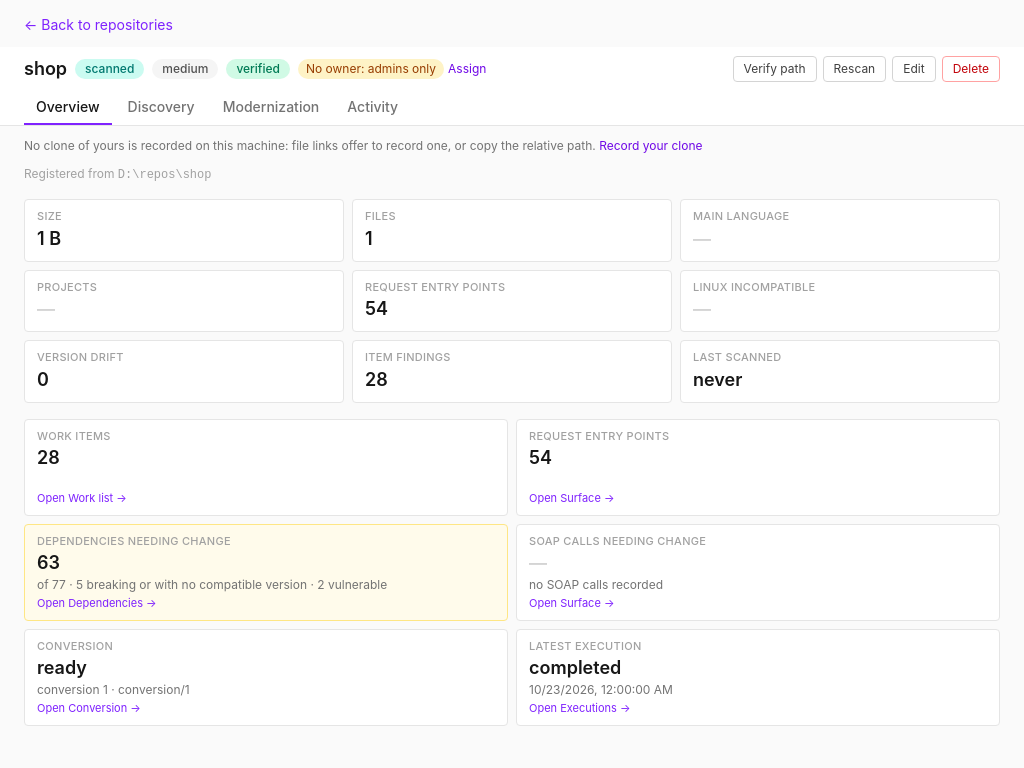
Test: RepositoryDetailPage tabs › a group shows its tabs and opens its first; only the selected tab is shown
Check: the heading "shop" is shown, box [24,55,67,83]
Click the tab "Discovery": point(161, 108) [116,91,207,125]
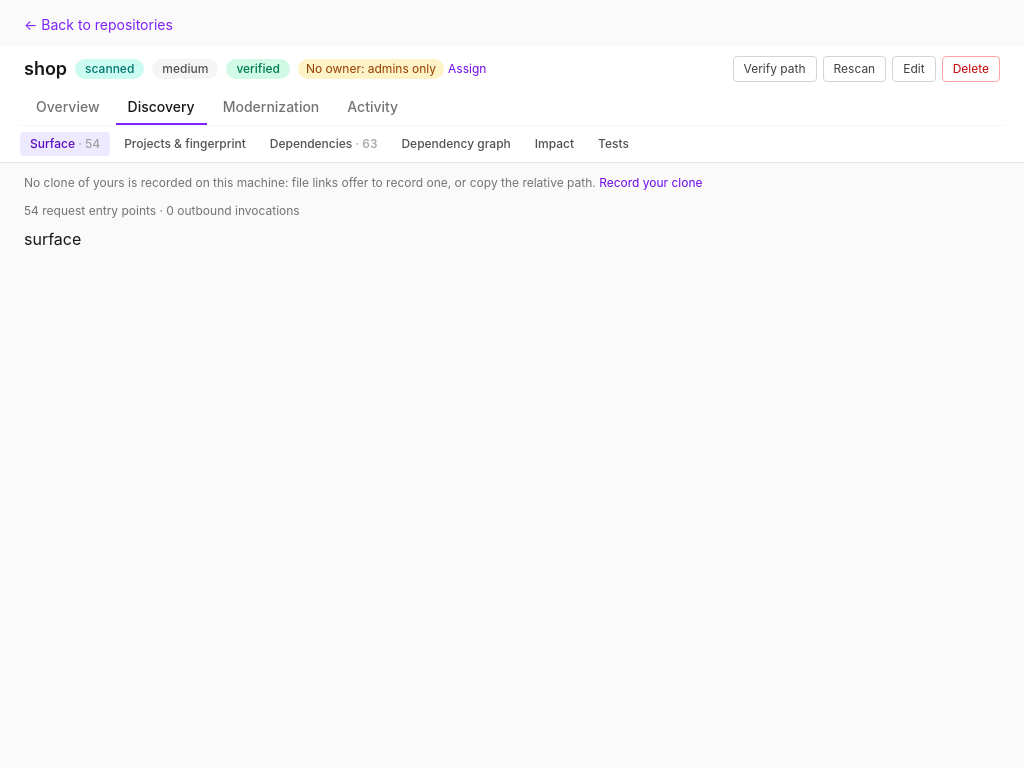
Check: the tabs read "Surface · 54", "Projects & fingerprint", "Dependencies · 63", "Dependency graph", "Impact", "Tests", in this order, box [20,132,110,156]; [114,132,256,156]; [260,132,388,156]; [391,132,521,156]; [525,132,584,156]; [588,132,639,156]
Click the tab "Modernization": point(271, 108) [211,91,331,125]
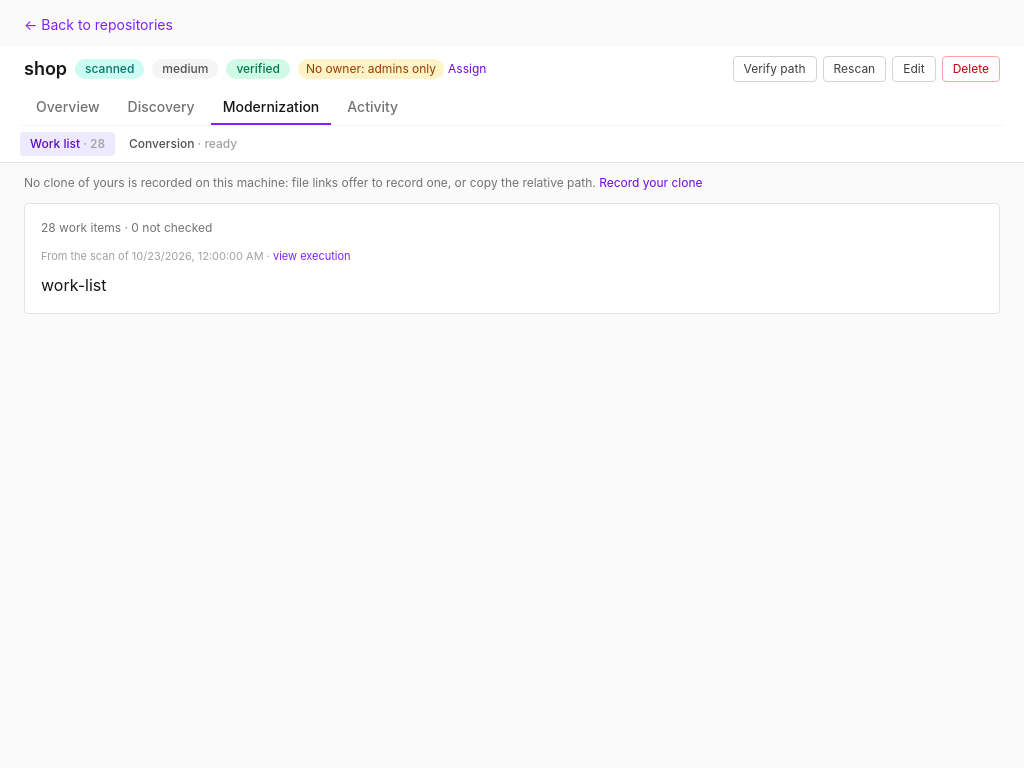
Check: the tabs read "Work list · 28", "Conversion · ready", in this order, box [20,132,115,156]; [119,132,247,156]
Click the tab "Activity": point(373, 108) [335,91,410,125]
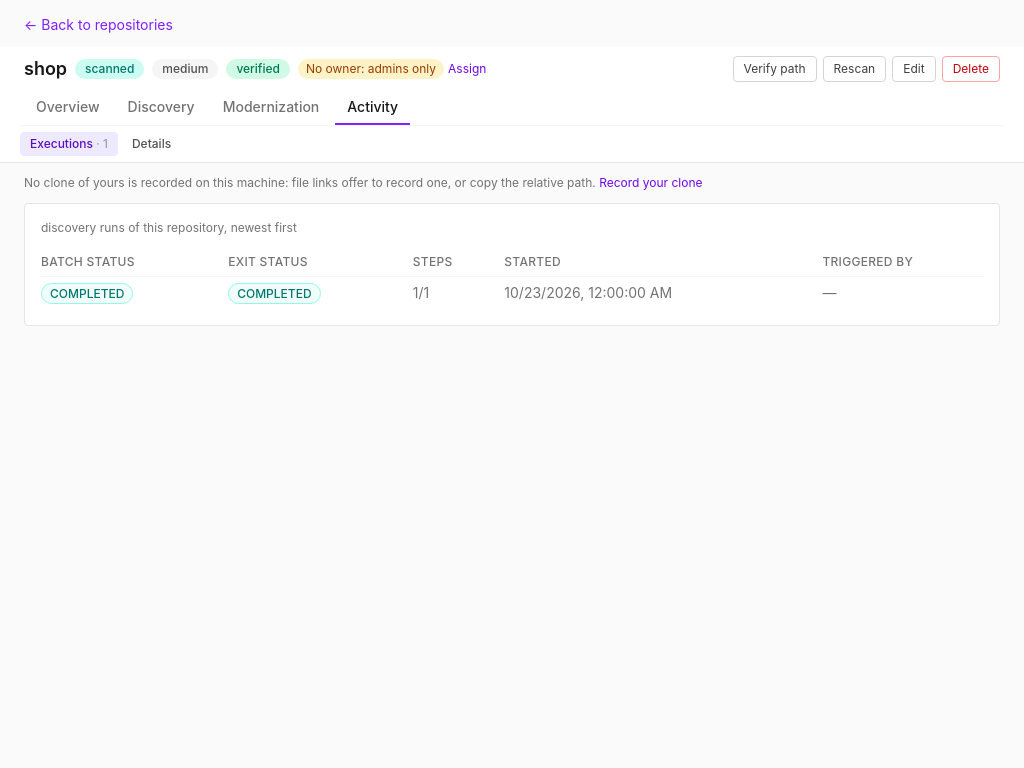
Check: the tabs read "Executions · 1", "Details", in this order, box [20,132,118,156]; [122,132,181,156]
